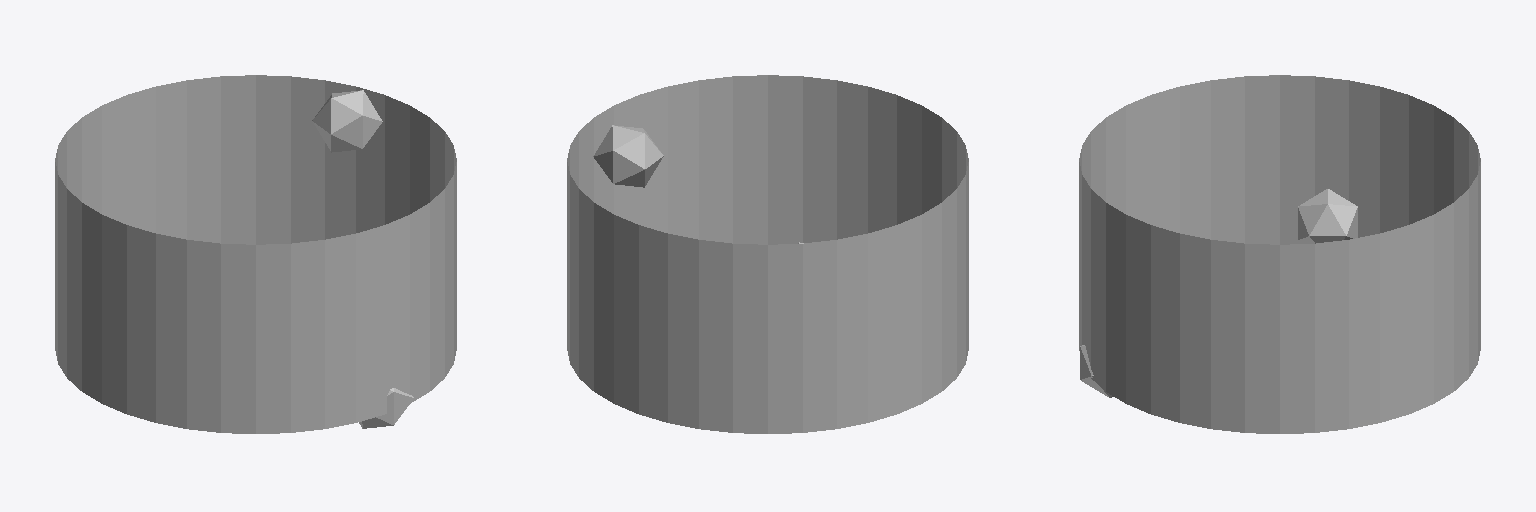
Rendered from panoNObjects.obj.
3 views of the same model, side by side, from view 1: azimuth 30°, elevation 25°; view 2: azimuth 150°, elevation 25°; view 3: azimuth 270°, elevation 25° (orthographic).
Visible parts, largest first — view 1: Zylinder, Platonischer_Körper.2, Platonischer_Körper.1; view 2: Zylinder, Platonischer_Körper.2; view 3: Zylinder, Platonischer_Körper.2.
Boxes of the visible parts, x1,y1,x2,y2 form: Zylinder: [55, 75, 456, 433]; Platonischer_Körper.2: [312, 90, 382, 152]; Platonischer_Körper.1: [359, 388, 413, 428]; Zylinder: [567, 75, 968, 433]; Platonischer_Körper.2: [593, 125, 663, 187]; Zylinder: [1079, 75, 1480, 433]; Platonischer_Körper.2: [1298, 189, 1357, 243].
Bounding box in the file's own units: 174 × 111 × 174.